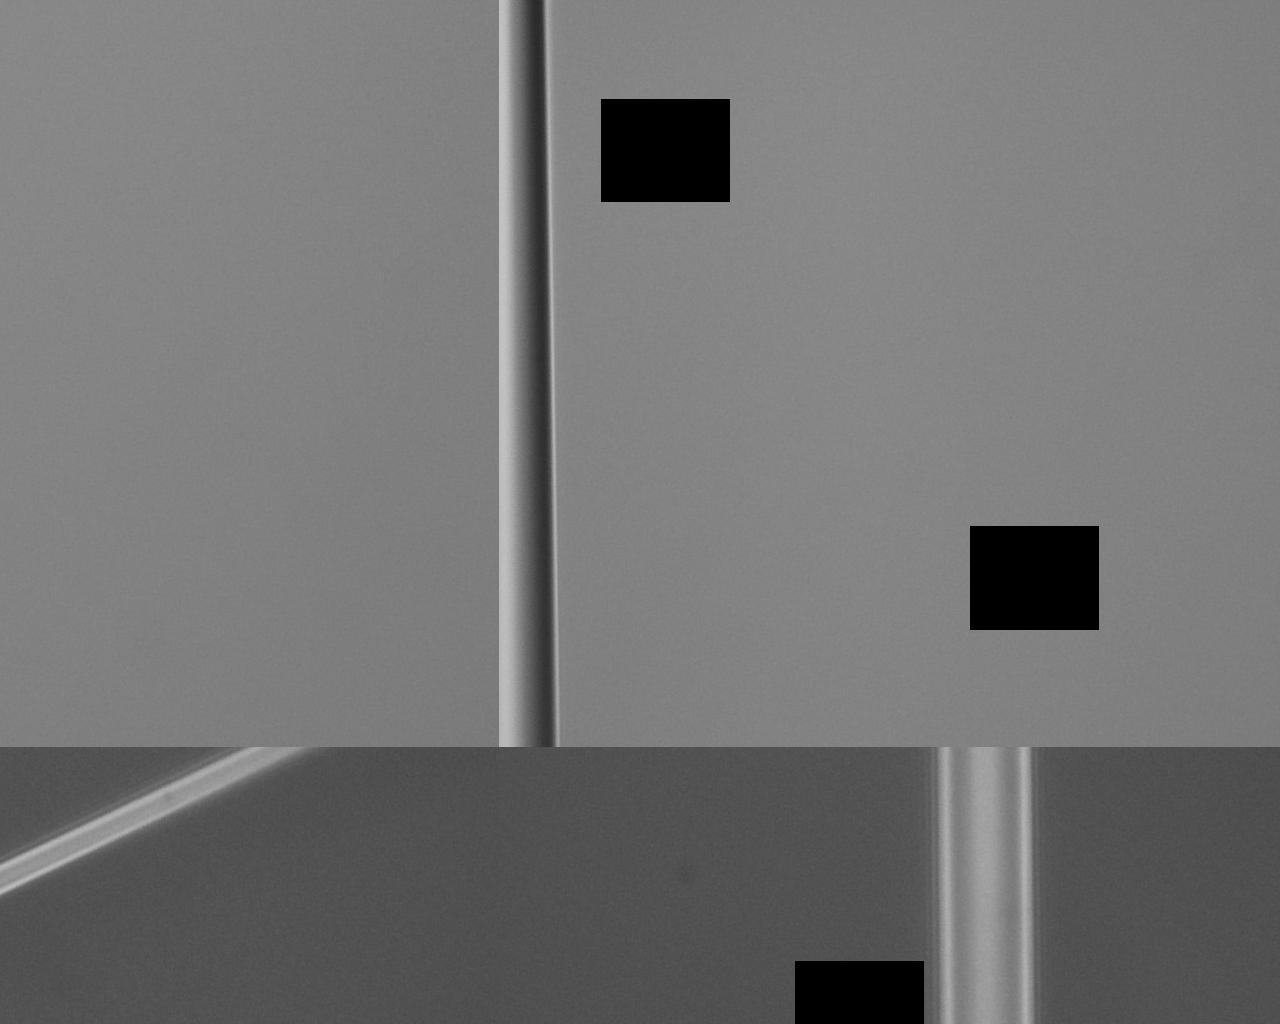fiber: (653, 0, 768, 1024)
